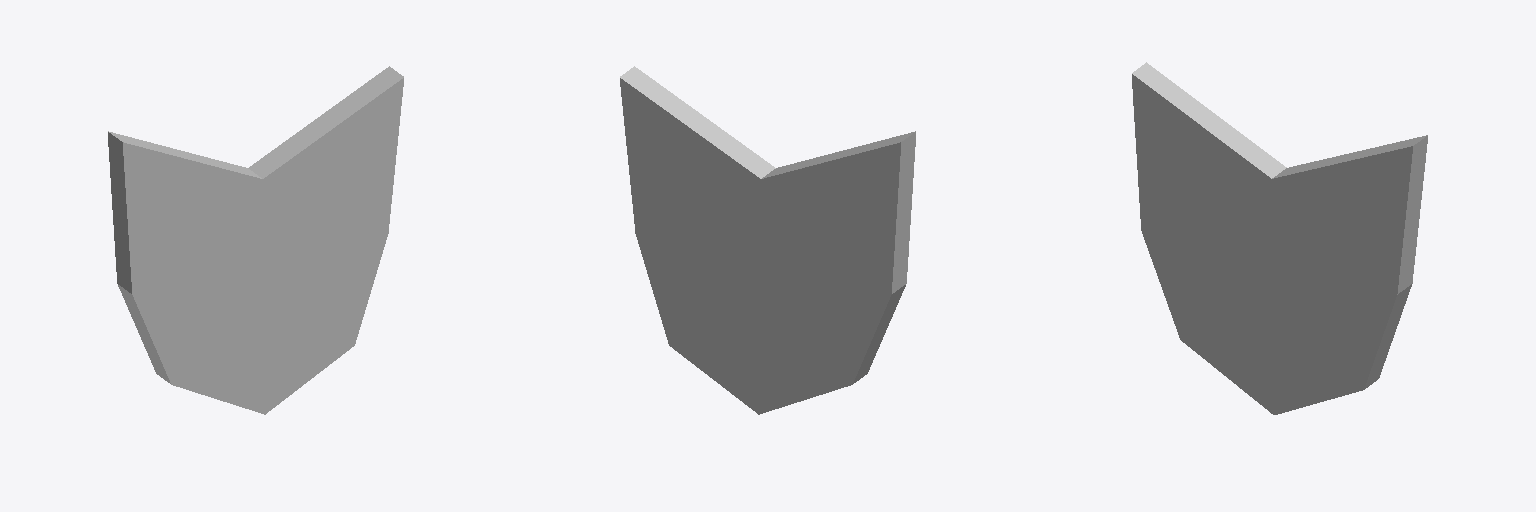
The model's file is armourPack.obj.
3 views of the same model, side by side, from view 1: azimuth 30°, elevation 25°; view 2: azimuth 150°, elevation 25°; view 3: azimuth 330°, elevation 25° (orthographic).
Visible parts, largest first — view 1: pPlane1; view 2: pPlane1; view 3: pPlane1.
Part boxes in pixels (x1,y1,x2,y2): pPlane1: (108, 66, 403, 414); pPlane1: (620, 66, 915, 414); pPlane1: (1132, 62, 1427, 414).
Bounding box in the file's own units: 0.9418 × 0.9814 × 0.0873.